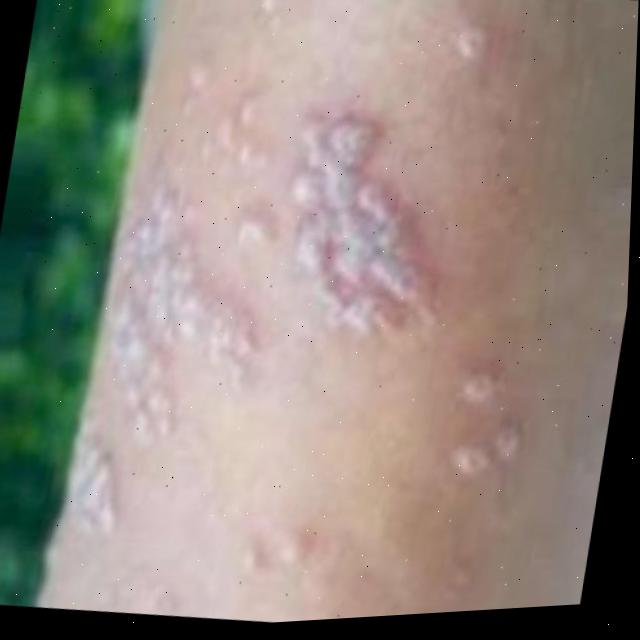Shingles: (67, 91, 450, 560)
